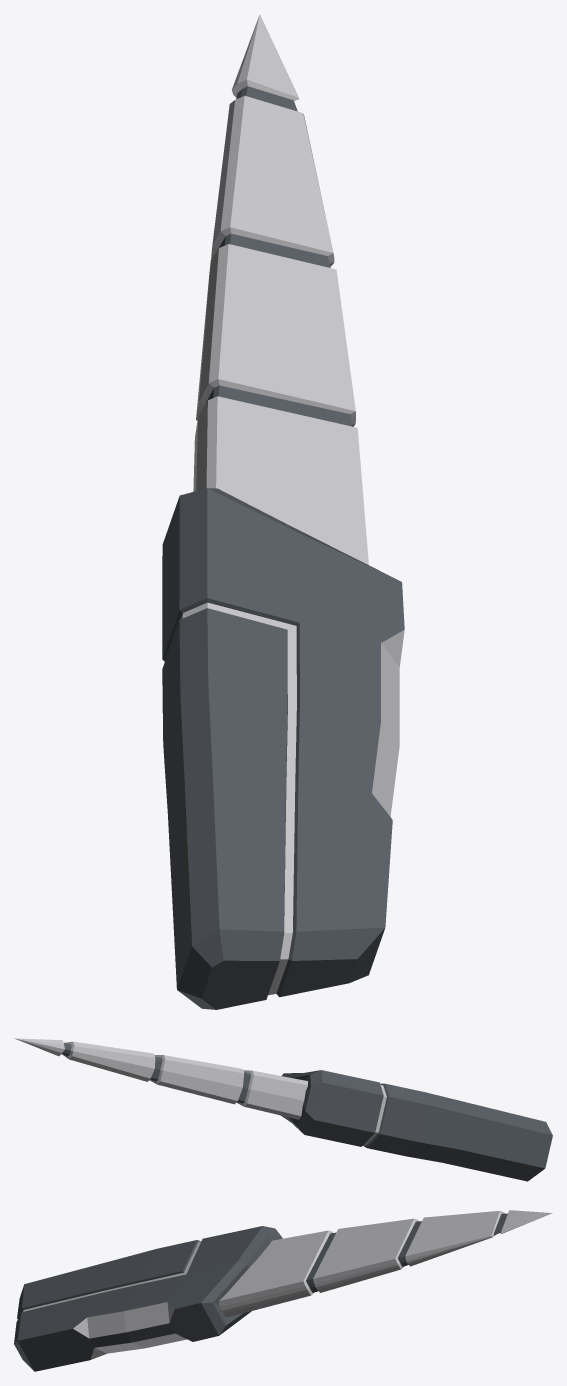
Rendered from Fighter_03_Left_Wing.fbx.
3 views of the same model, one above another, from view 1: azimuth 30°, elevation 25°; view 2: azimuth 150°, elevation 25°; view 3: azimuth 270°, elevation 25° (orthographic). The views are drawn at different scales.
Visible parts, largest first — view 1: Fighter_03_Left_Wing; view 2: Fighter_03_Left_Wing; view 3: Fighter_03_Left_Wing.
Part boxes in pixels (x1=…): Fighter_03_Left_Wing: x1=162, y1=14, x2=404, y2=1009; Fighter_03_Left_Wing: x1=14, y1=1038, x2=552, y2=1181; Fighter_03_Left_Wing: x1=14, y1=1210, x2=552, y2=1371.
Size of the model in its own units: 590 by 501 by 932.
Materials: 1 (1 with a texture image).
